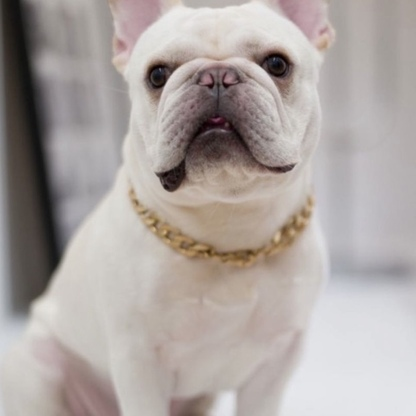bulldog: (91, 3, 342, 320)
